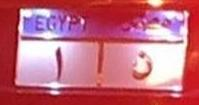1: (51, 45, 67, 81)
noon: (129, 47, 155, 81)
